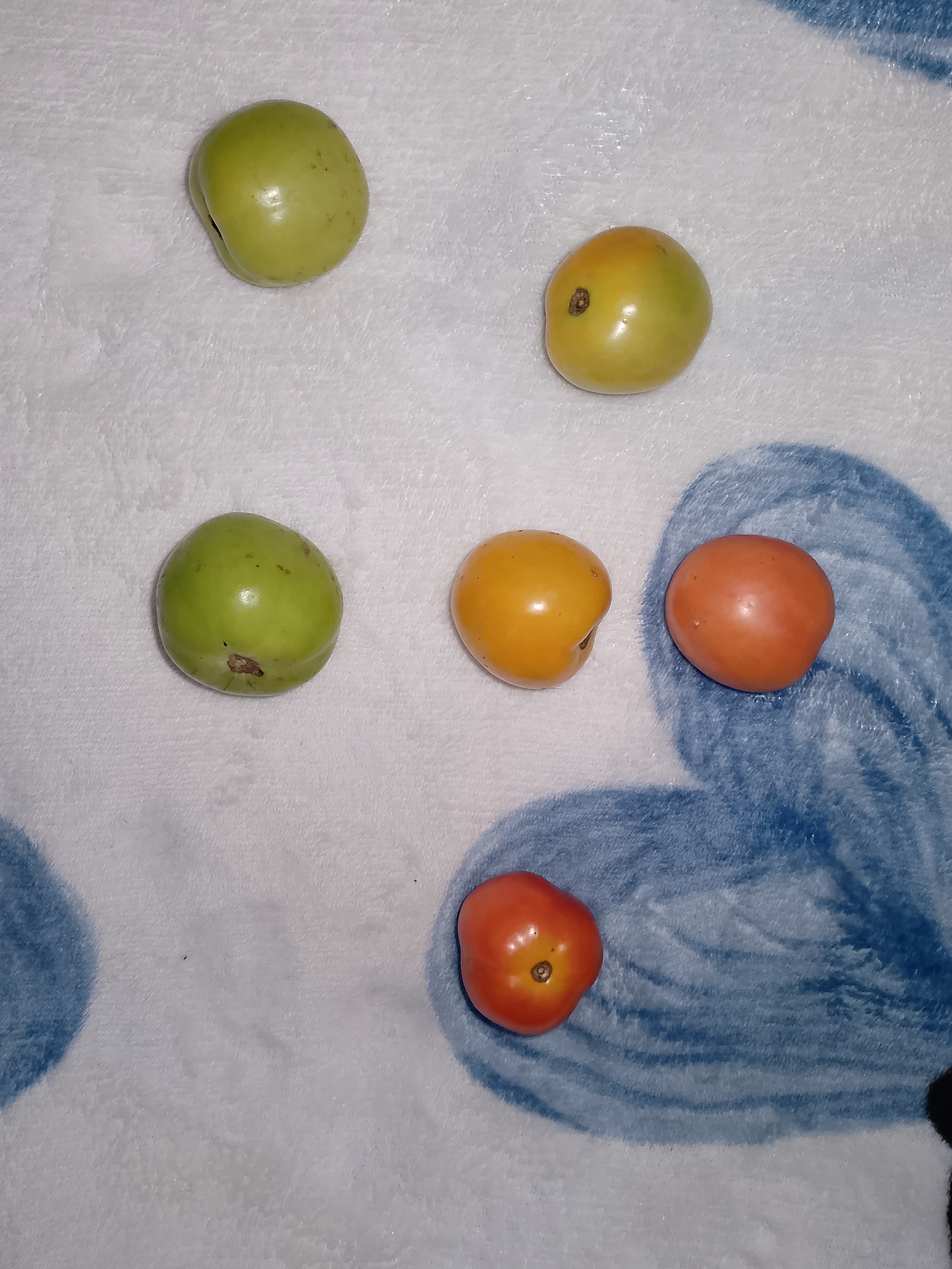Ripe: (426, 825, 662, 1074), (644, 514, 867, 716), (444, 480, 615, 711)
Unripe: (75, 483, 382, 734), (524, 184, 784, 400), (156, 73, 392, 298)
